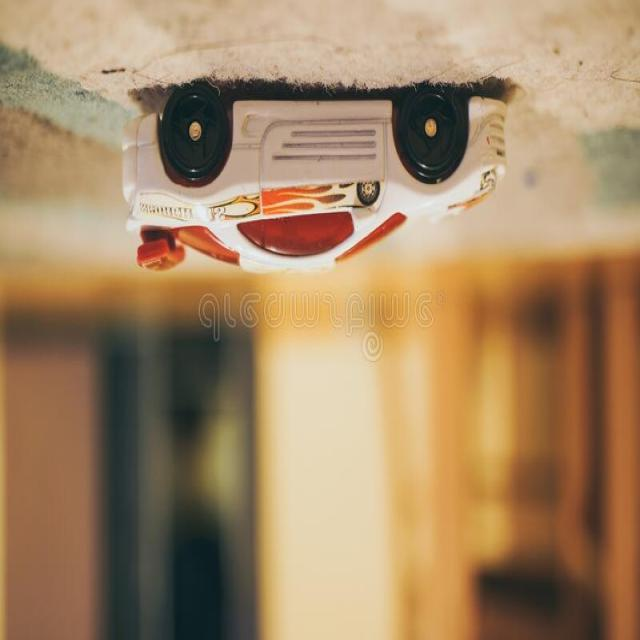Car: (120, 80, 507, 276)
